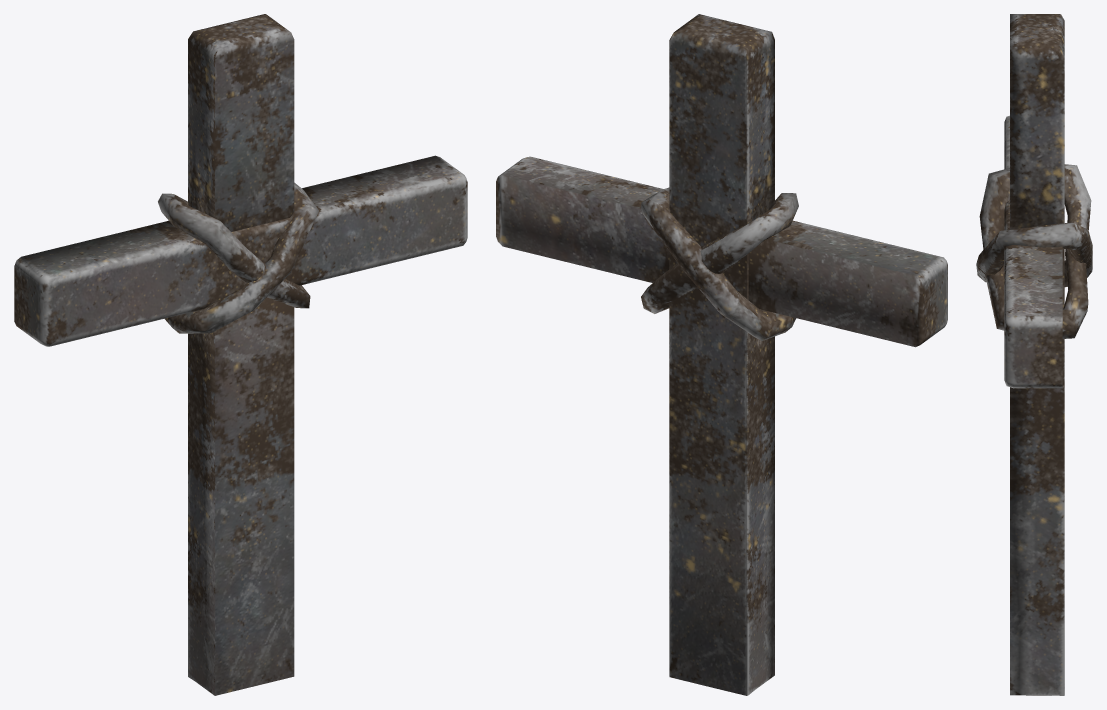
Rendered from krest2.fbx.
3 views of the same model, side by side, from view 1: azimuth 30°, elevation 25°; view 2: azimuth 150°, elevation 25°; view 3: azimuth 270°, elevation 25° (orthographic).
Visible parts, largest first — view 1: CandleCrosses.030; view 2: CandleCrosses.030; view 3: CandleCrosses.030.
Part boxes in pixels (box(x1,y1,x2,y2)): CandleCrosses.030: box(14, 14, 467, 695); CandleCrosses.030: box(496, 14, 947, 695); CandleCrosses.030: box(976, 14, 1092, 695).
Size of the model in its own units: 635 by 920 by 150.
